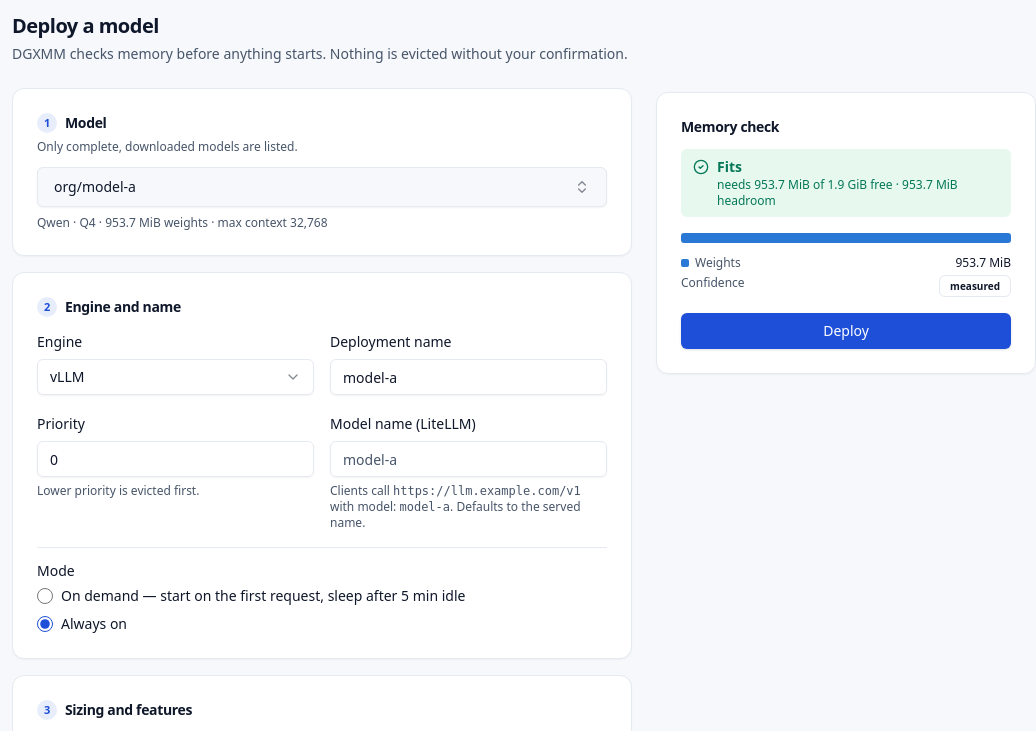
Test case: DeployWizard › names the LiteLLM model, explains the single endpoint and validates the name
The image size is (1036, 731).
Expected: the text "Fits" is shown, [717,157,742,176]
Expected: the text "Defaults to the served name" is shown, [330,498,581,531]
Type "bad name" into the field labelled "Model name (LiteLLM)".
click(468, 459); type("bad name")  # box [330,441,607,477]
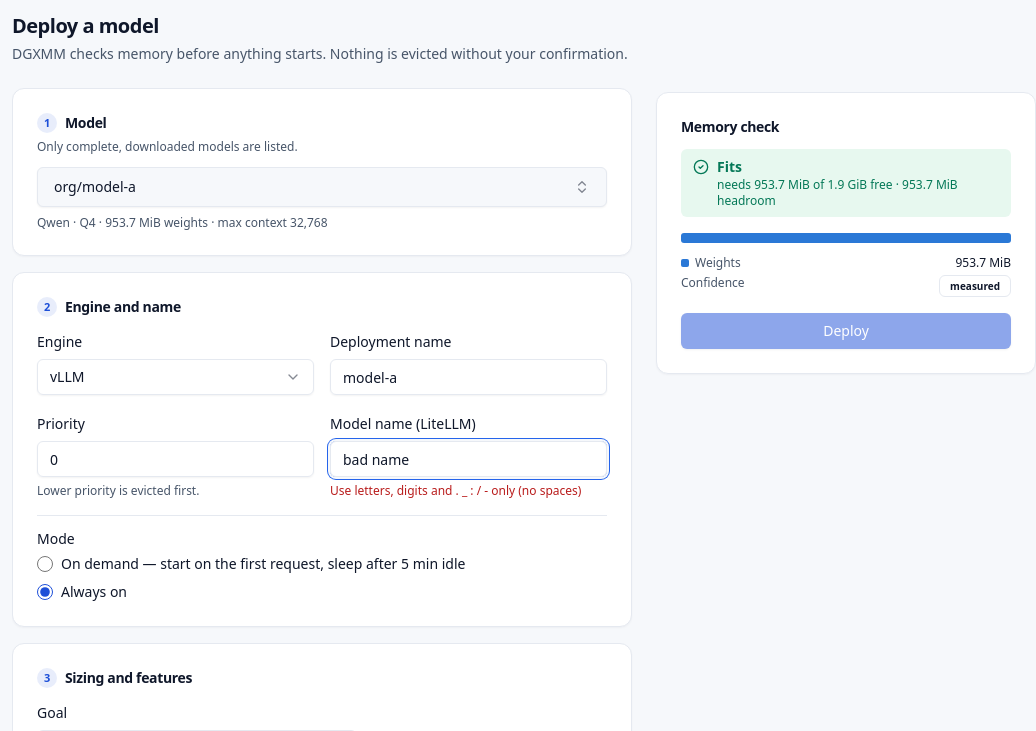
Now the text "Use letters, digits and . _ : / - only (no spaces)" is shown, box [330,483,607,499]
Now the button "Deploy" is disabled, box [681,313,1011,349]
Replace the text in the field labelled "Model name (LiteLLM)" with "team-chat" at (468, 459), box [330,441,607,477]
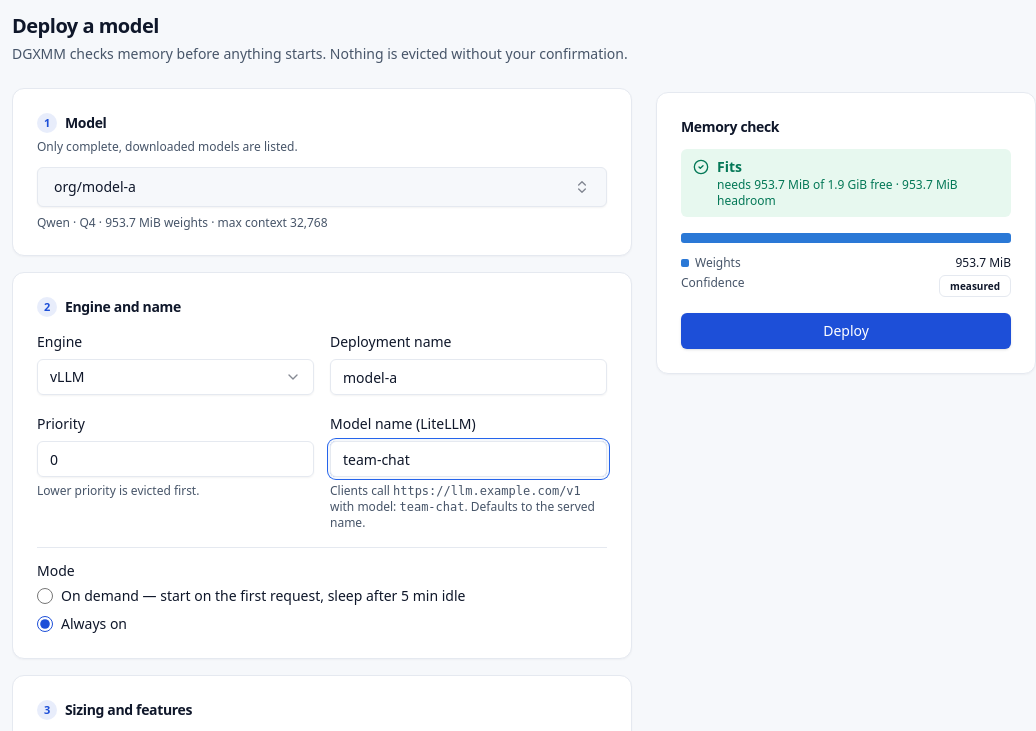
Now the button "Deploy" is enabled, box [681,313,1011,349]
Now the text "team-chat" is shown, box [400,500,464,514]
